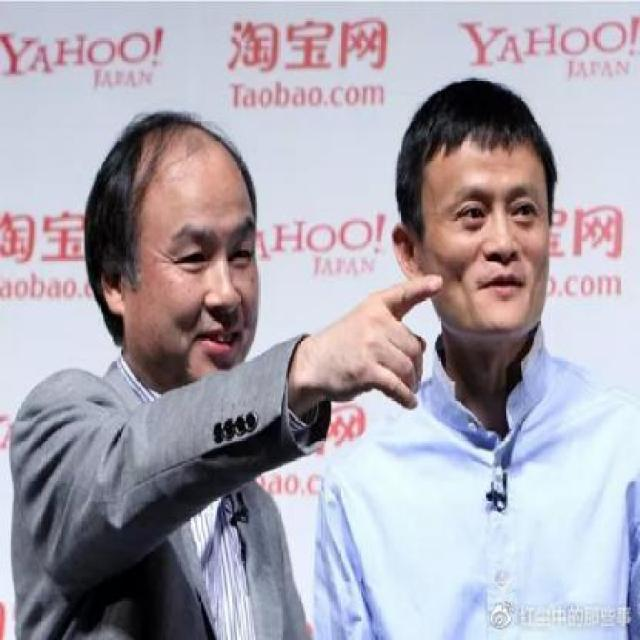face_nomask: (418, 156, 552, 338), (142, 199, 262, 386)
hand_noglove: (317, 272, 441, 410)
head_nohelmet: (117, 97, 277, 228), (414, 70, 543, 168)
person: (344, 81, 640, 640), (21, 112, 328, 640)
